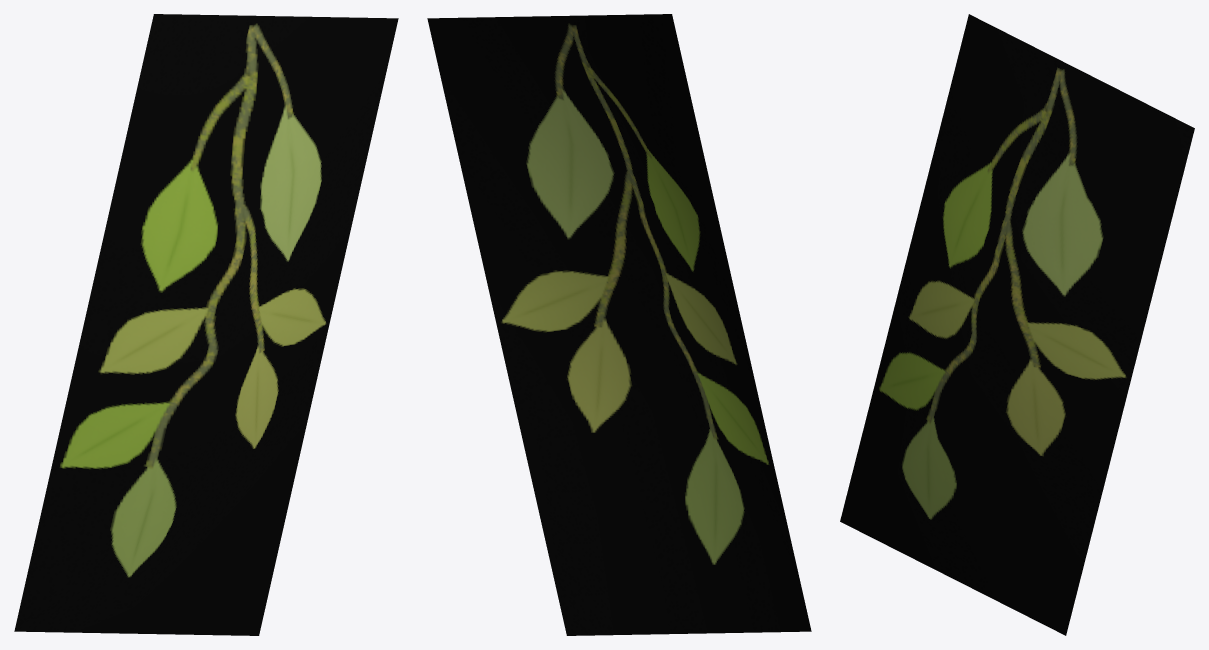
Rendered from Ivy_1_1.fbx.
3 renders of one model, left to right at view 1: azimuth 30°, elevation 25°; view 2: azimuth 150°, elevation 25°; view 3: azimuth 330°, elevation 25°, orthographic. The views are drawn at different scales.
Parts seen in each view (by area): view 1: Ivy; view 2: Ivy; view 3: Ivy.
Boxes of the visible parts, x1,y1,x2,y2 form: Ivy: (14,14,398,635); Ivy: (427,14,811,635); Ivy: (840,14,1194,635).
Size of the model in its own units: 34.83 by 56.09 by 4.48.
